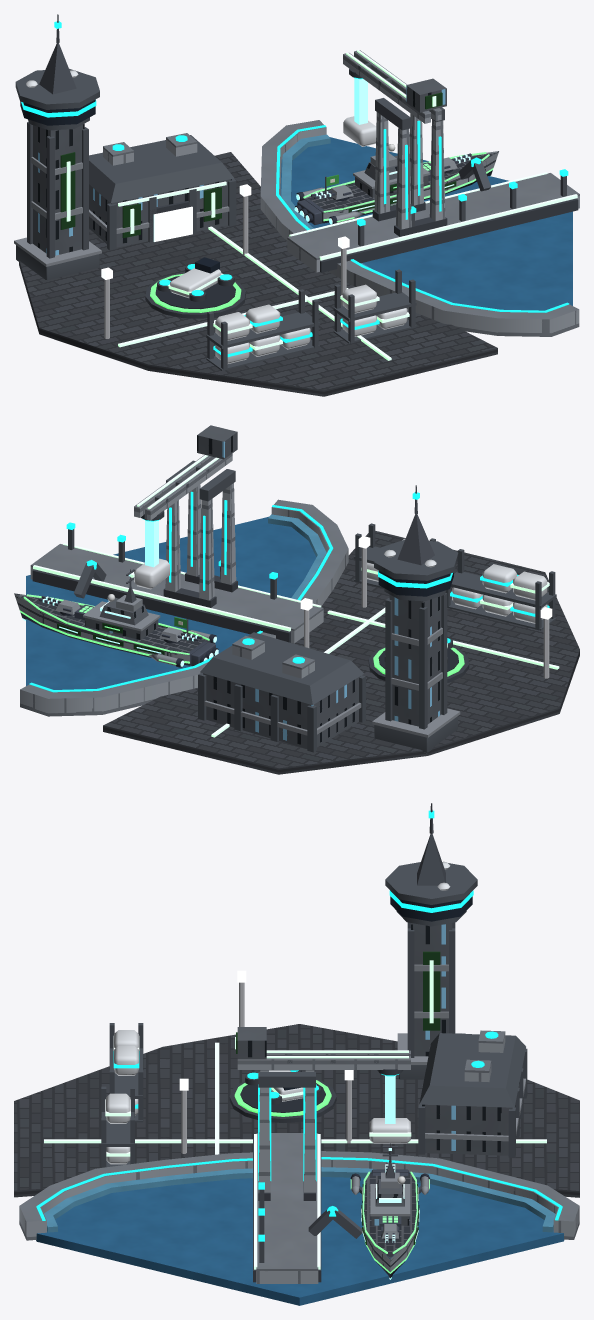
The model's file is port_scifi_green.glb.
3 renders of one model, top to bottom at view 1: azimuth 30°, elevation 25°; view 2: azimuth 150°, elevation 25°; view 3: azimuth 270°, elevation 25°, orthographic. The views are drawn at different scales.
Parts seen in each view (by area): view 1: port_scifi_green; view 2: port_scifi_green; view 3: port_scifi_green.
Part boxes in pixels (bbox=[...]): port_scifi_green: bbox=[14, 14, 579, 396]; port_scifi_green: bbox=[14, 425, 579, 774]; port_scifi_green: bbox=[14, 803, 579, 1305].
Bounding box in the file's own units: 1.58 × 0.72 × 1.37.
9 materials, 1 textured.
